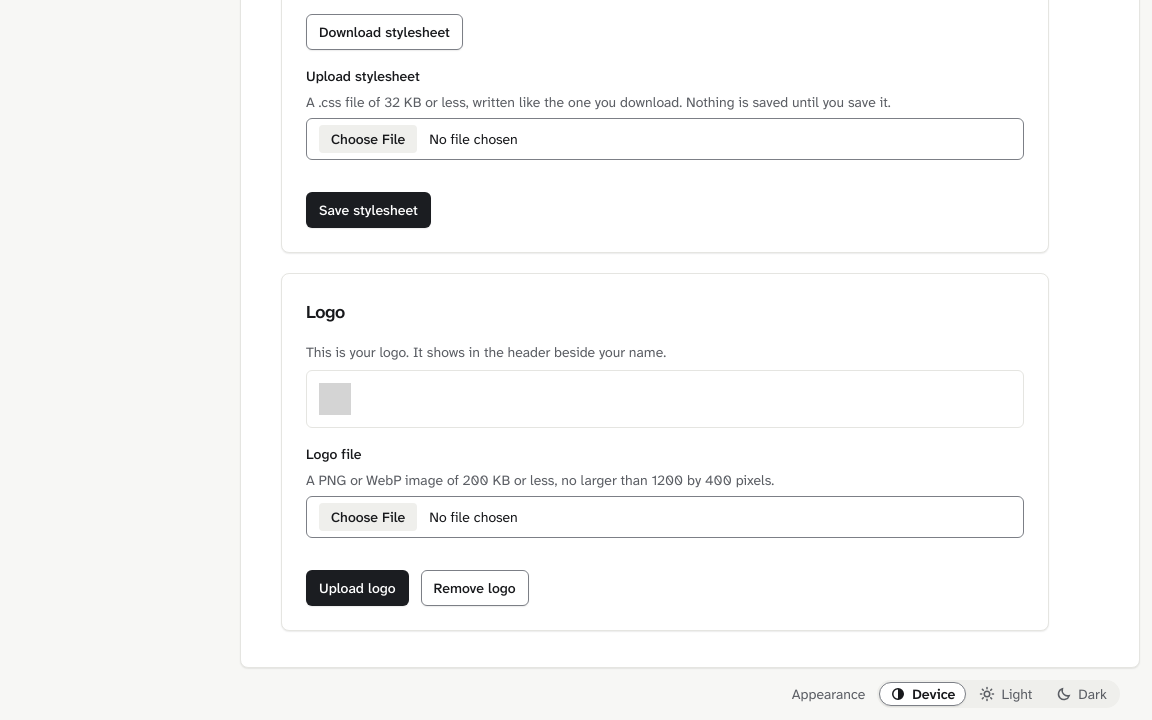
it: the logo section › removes the logo and moves focus to the file field, since the button is gone
The width and height of the screenshot is (1152, 720).
(page scrolled)
Expected: the file field labelled "Logo file" is shown, [306,496,1024,538]
Step 1. Click the button "Remove logo" → (475, 588), box [421,570,529,606]
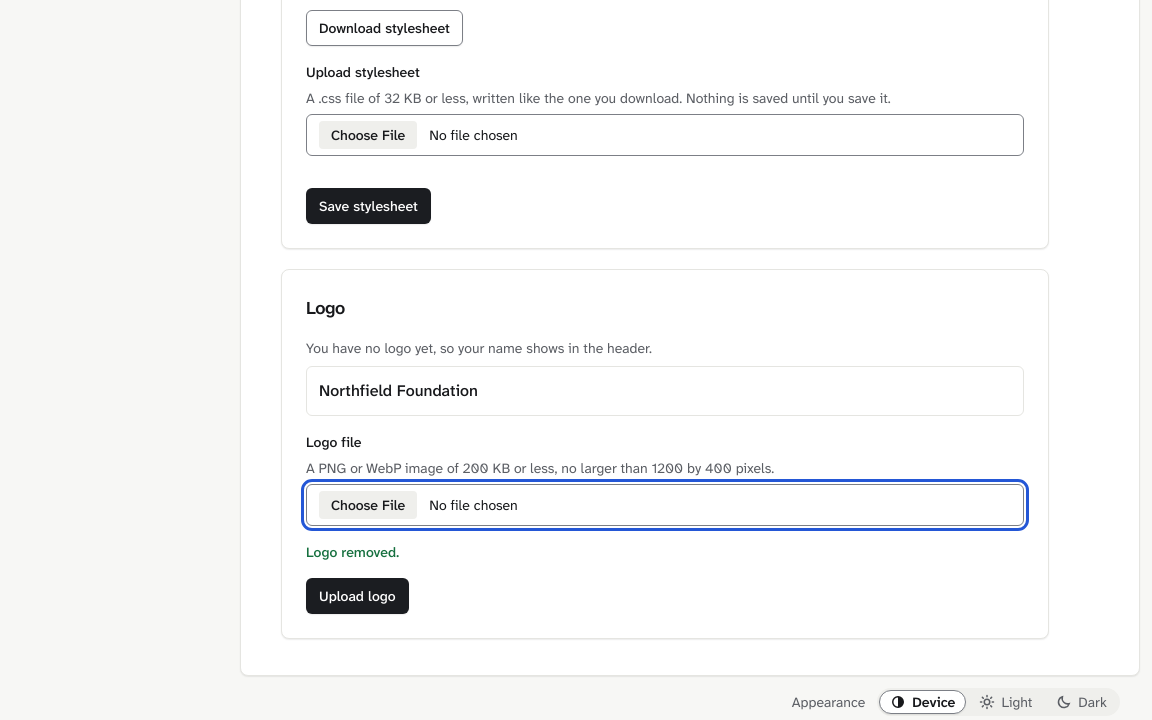
Expected: the text "Logo removed." is shown, [306,543,399,561]
Expected: the button "Remove logo" is gone
Expected: the text "You have no logo yet, so your name shows in the header." is shown, [306,339,652,357]
